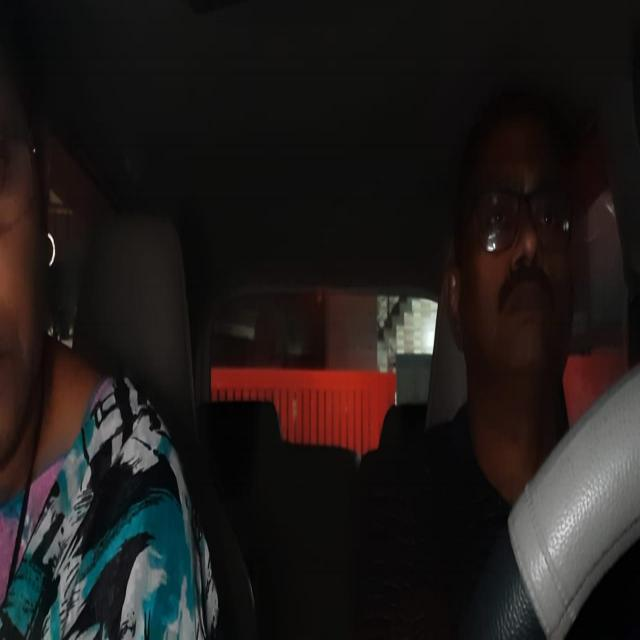person: (440, 74, 587, 403), (1, 42, 68, 496)
